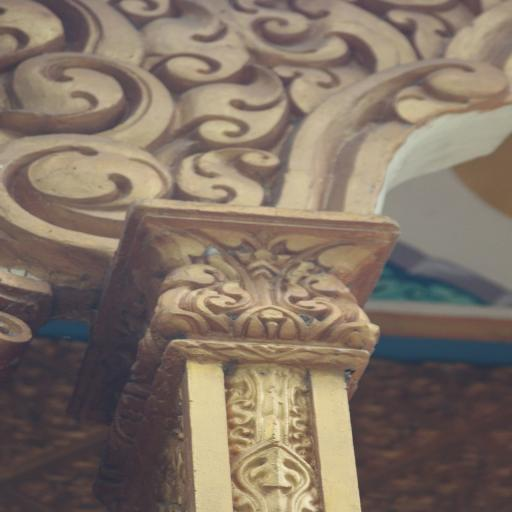la: (0, 14, 160, 238), (157, 248, 372, 346), (240, 441, 316, 512)
lua: (184, 73, 288, 149), (154, 9, 238, 80), (182, 152, 289, 202)
